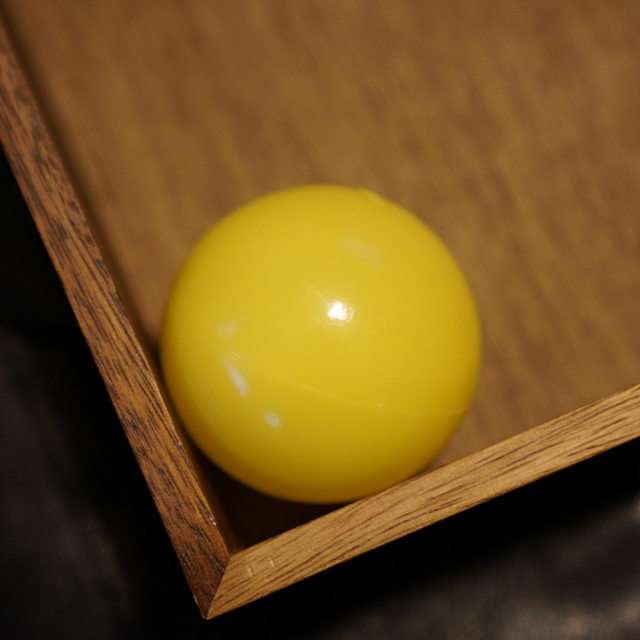Ball: (159, 194, 487, 504)
